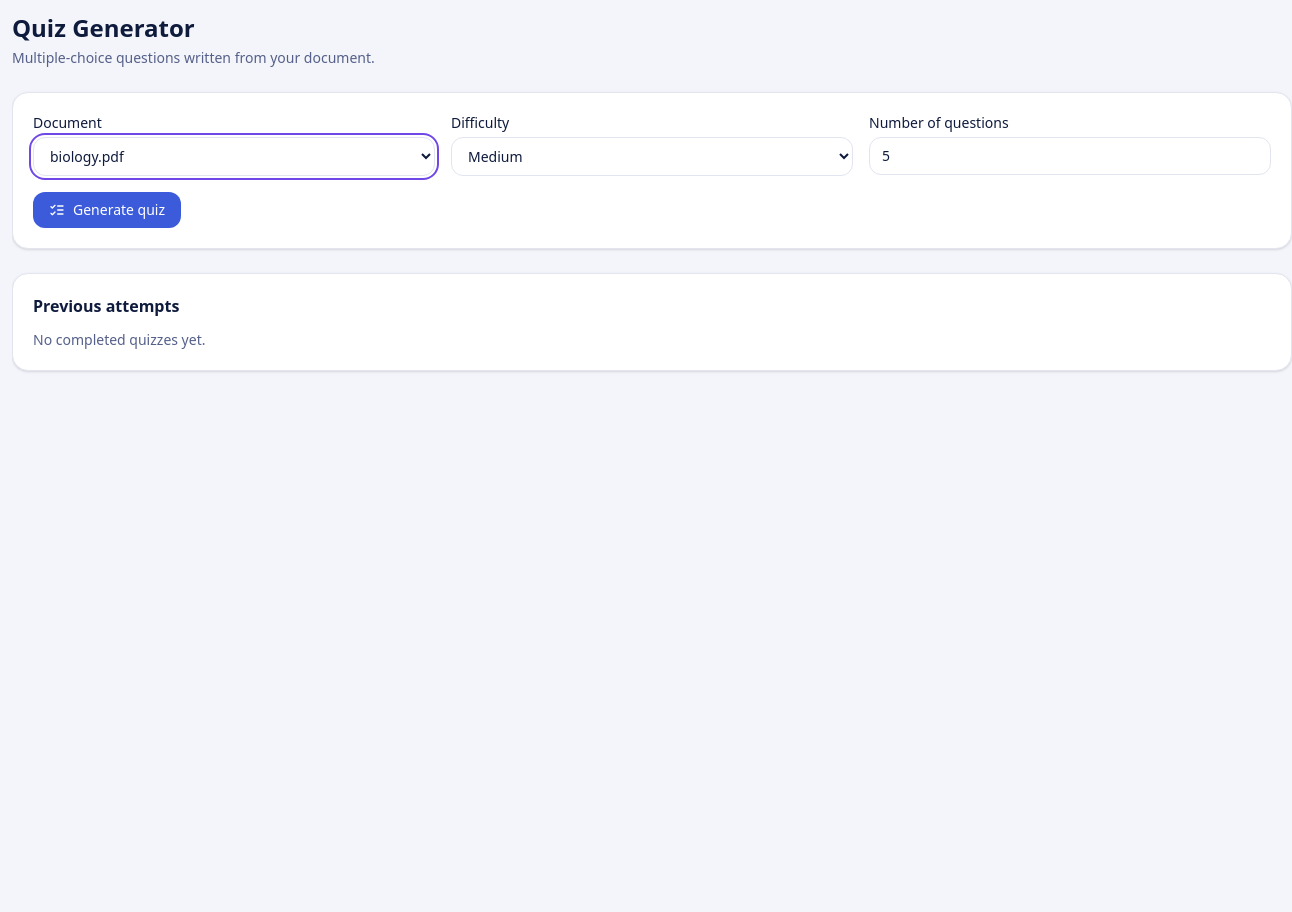
Test case: full quiz flow: generate, answer, submit and see results
The image size is (1292, 912).
Earlier steps of the test are not shown.
Click the button "Generate quiz" at (107, 210), box 33,192 -> 181,228
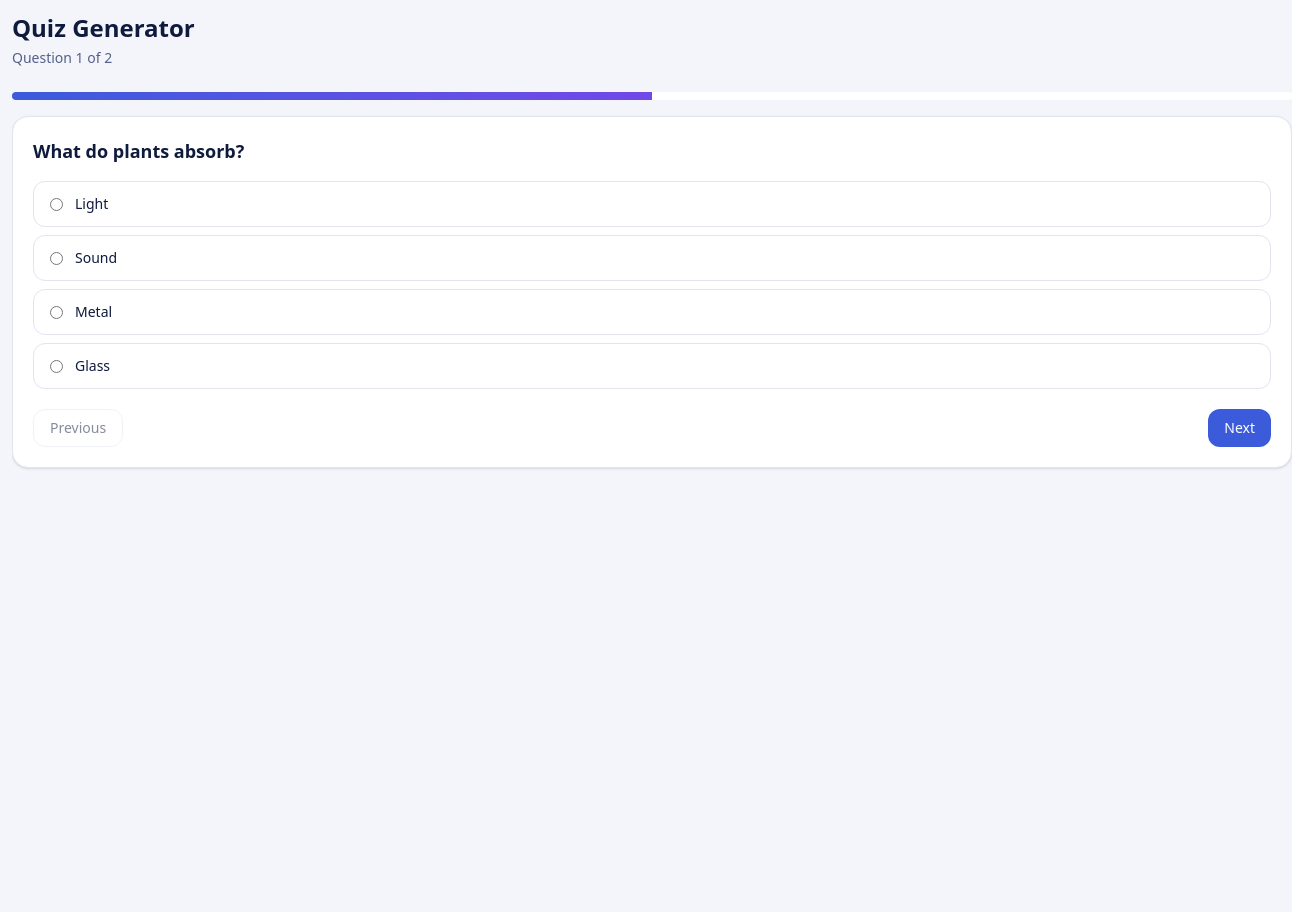
expect the heading "What do plants absorb?" is shown: met, box 33,139 -> 244,163
expect the text "Question 1 of 2" is shown: met, box 12,48 -> 112,67
Click the radio button labelled "Light" at (56, 204), box 50,198 -> 63,210
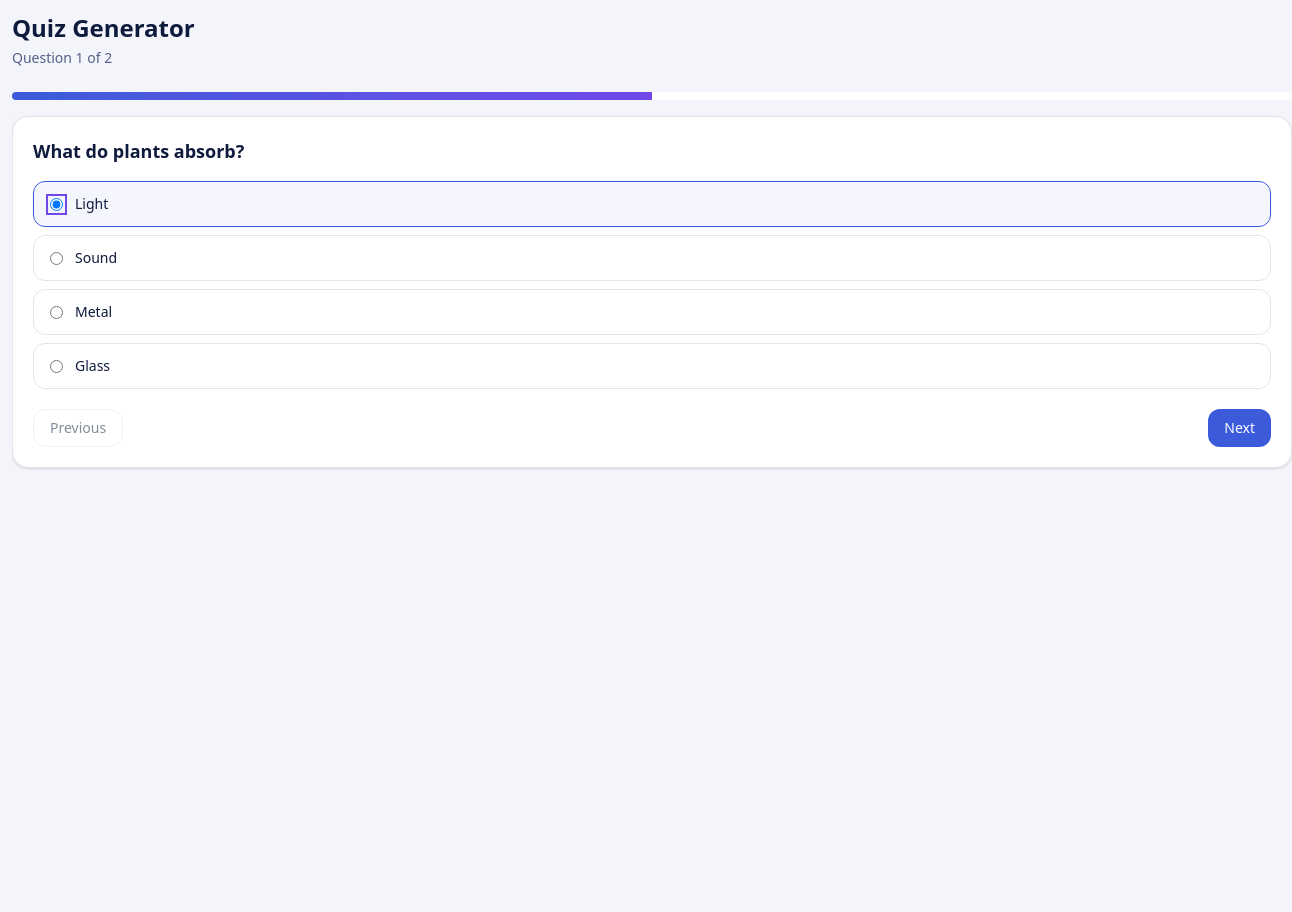
Click the button "Next" at (1240, 428), box 1208,409 -> 1271,447
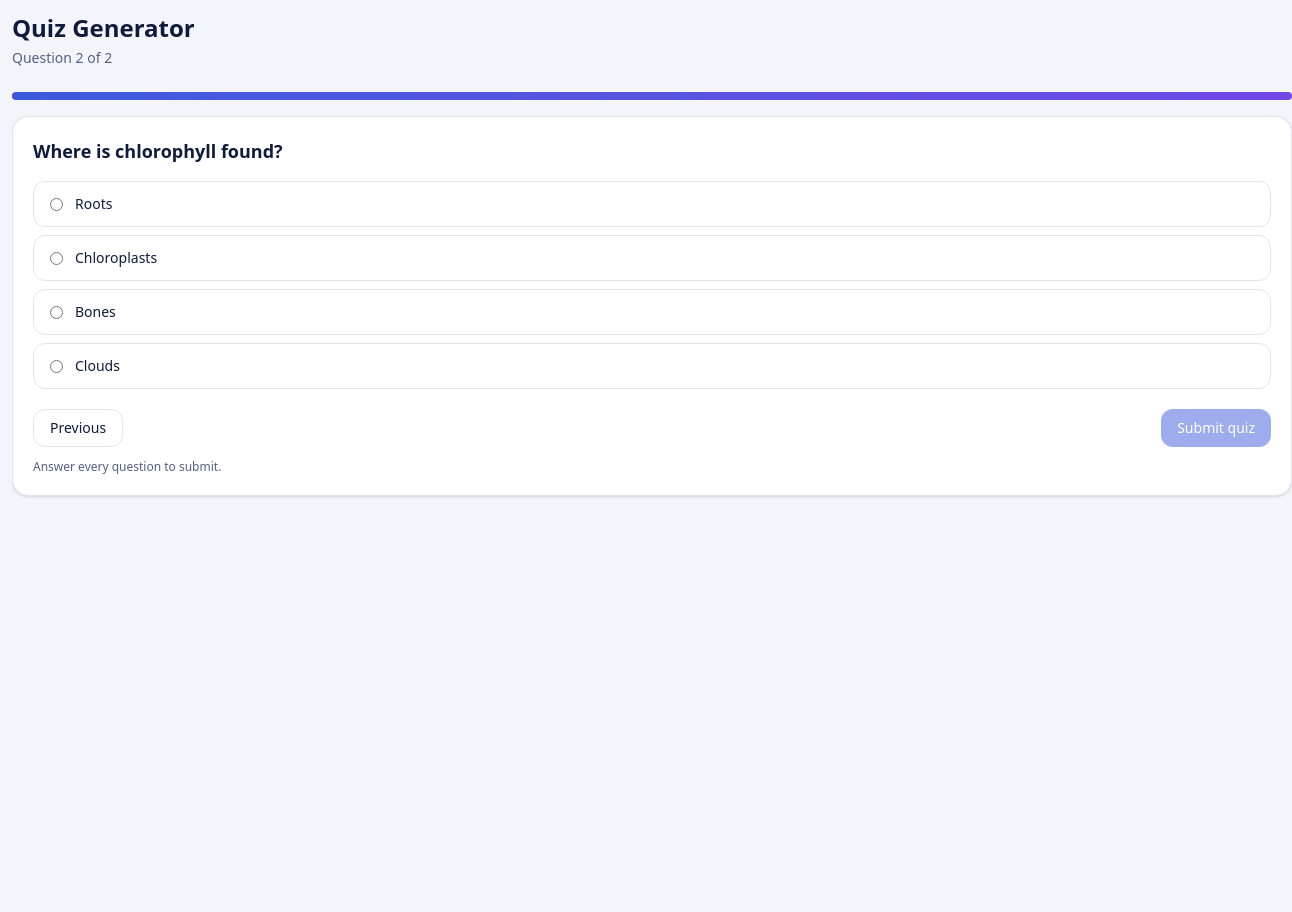
expect the heading "Where is chlorophyll found?" is shown: met, box 33,139 -> 283,163
expect the button "Submit quiz" is disabled: met, box 1161,409 -> 1271,447
Click the radio button labelled "Roots" at (56, 204), box 50,198 -> 63,210
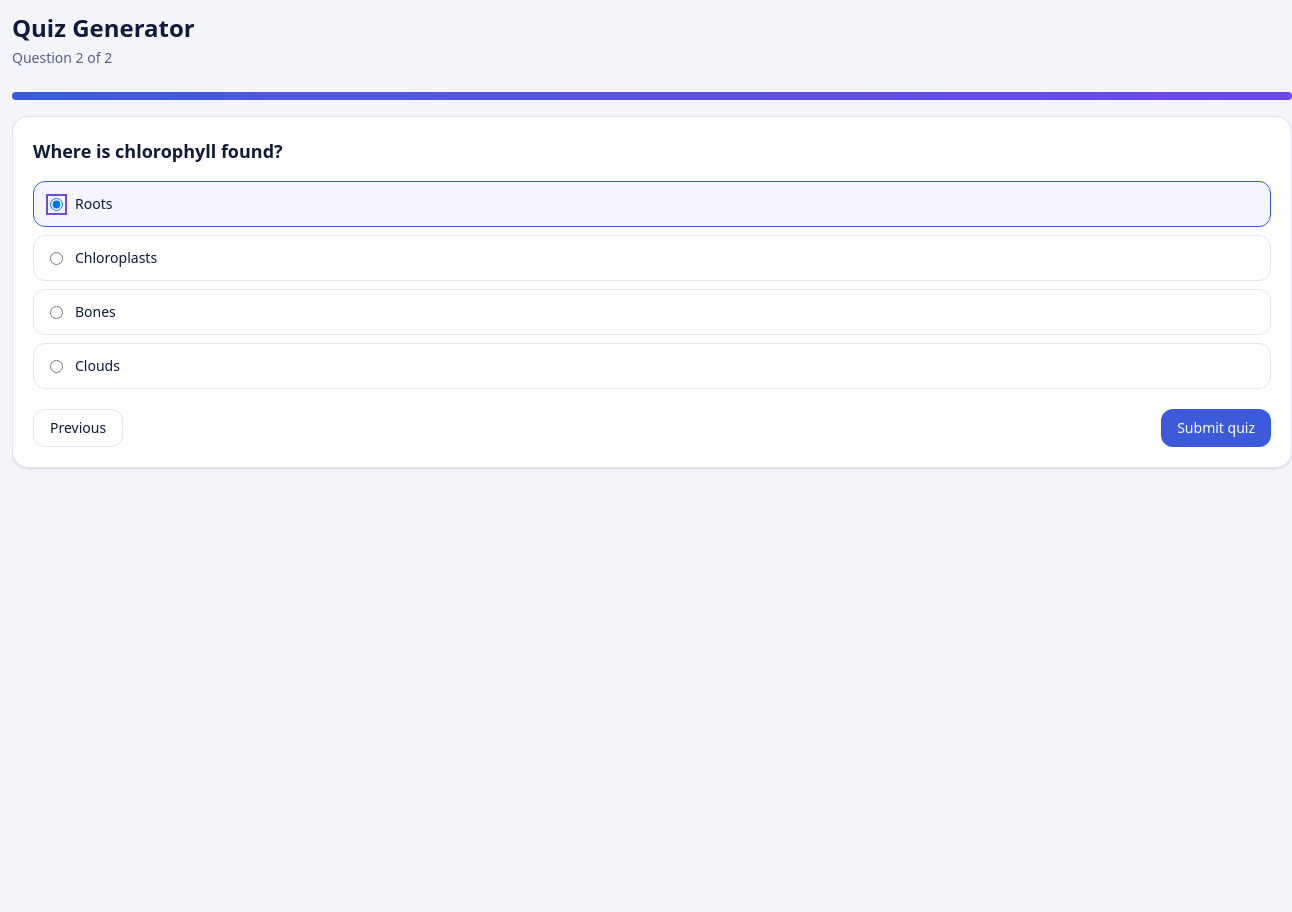
expect the button "Submit quiz" is enabled: met
Click the button "Submit quiz" at (1216, 428), box 1161,409 -> 1271,447
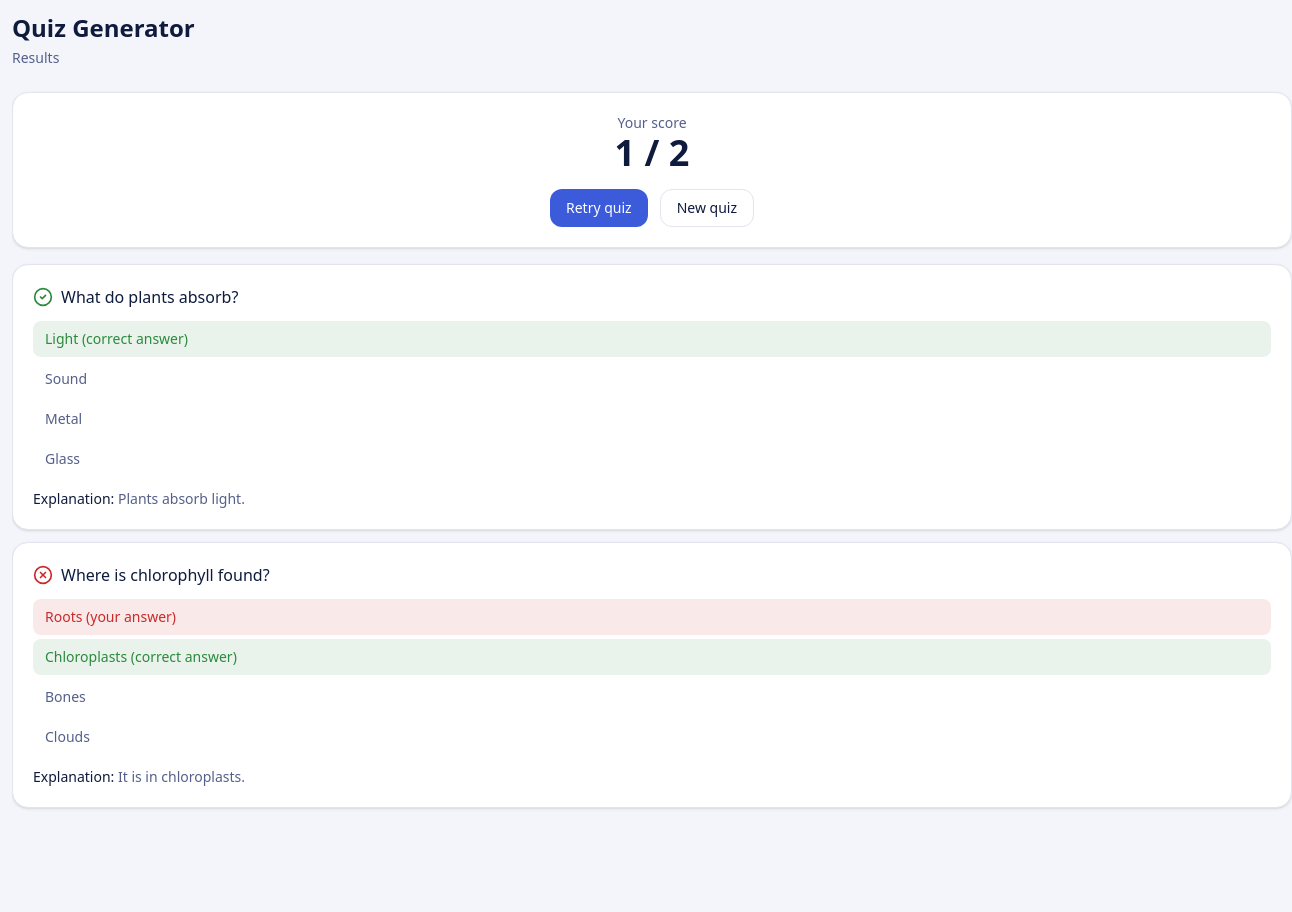
expect the text "1 / 2" is shown: met, box 615,128 -> 689,177
expect the text "Explanation: Plants absorb light." is shown: met, box 33,489 -> 245,508
expect the text "Explanation: It is in chloroplasts." is shown: met, box 33,767 -> 245,786
Click the button "Retry quiz" at (599, 208), box 550,189 -> 648,227
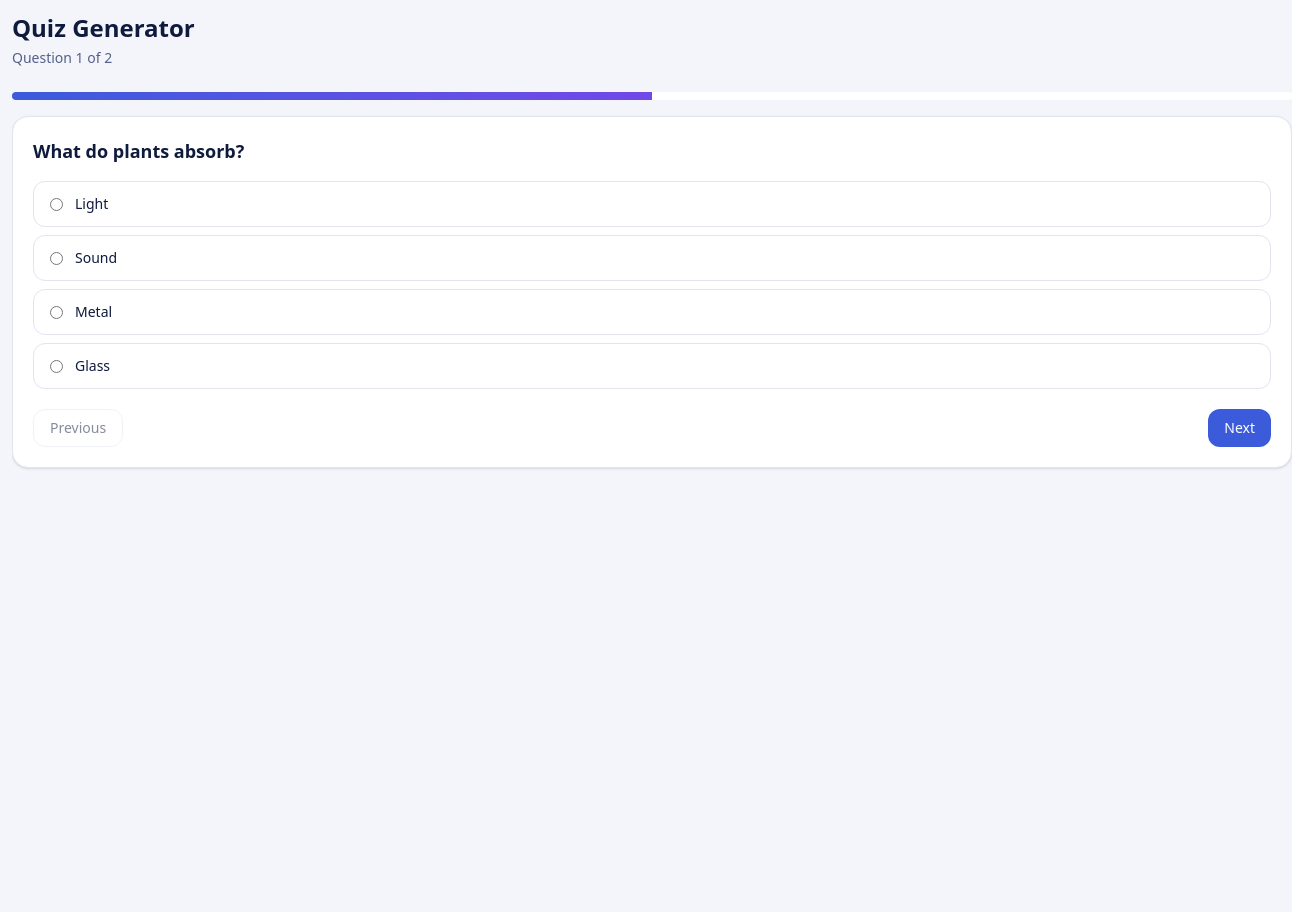
expect the text "Question 1 of 2" is shown: met, box 12,48 -> 112,67
